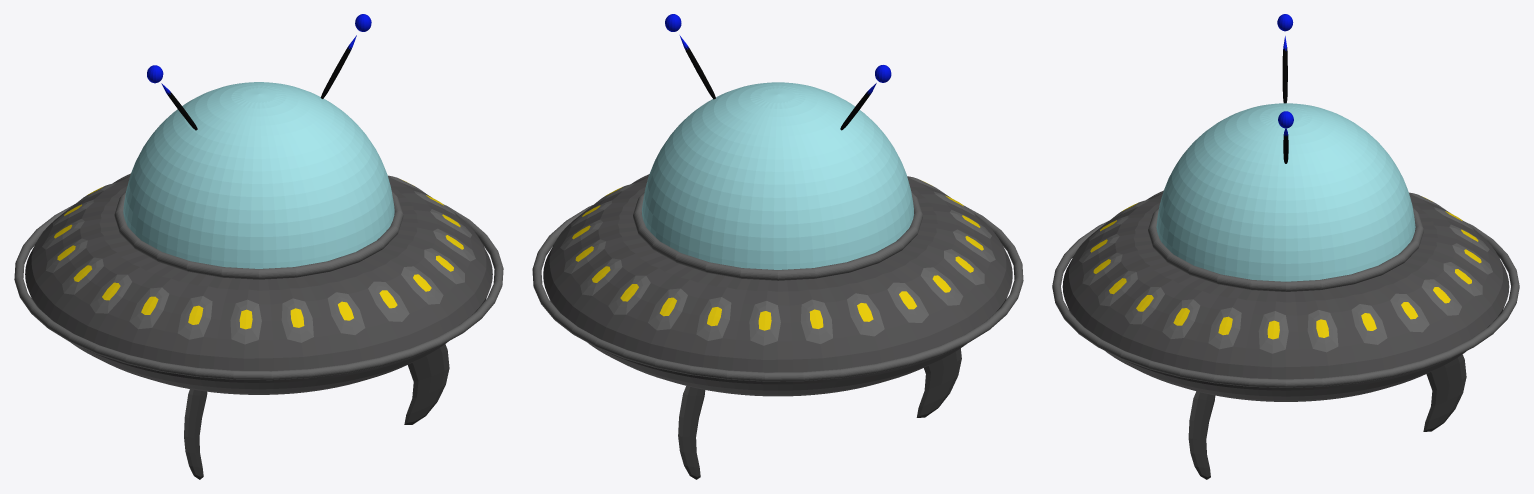
The model's file is GameAssetUFOBlack.fbx.
3 renders of one model, left to right at view 1: azimuth 30°, elevation 25°; view 2: azimuth 150°, elevation 25°; view 3: azimuth 270°, elevation 25°, orthographic. The views are drawn at different scales.
Parts seen in each view (by area): view 1: UFOBody; view 2: UFOBody; view 3: UFOBody.
Boxes of the visible parts, x1,y1,x2,y2 form: UFOBody: (14,14,503,479); UFOBody: (532,14,1023,479); UFOBody: (1052,14,1519,479).
Size of the model in its own units: 766 by 662 by 766.
